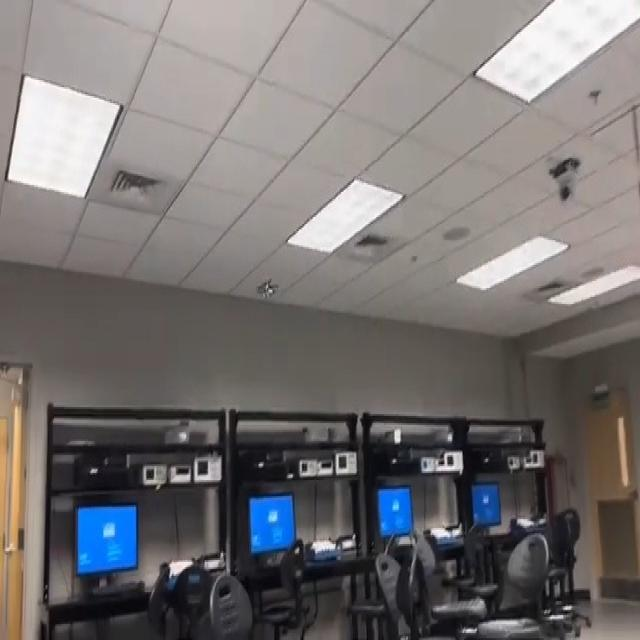drone: (249, 265, 283, 314)
